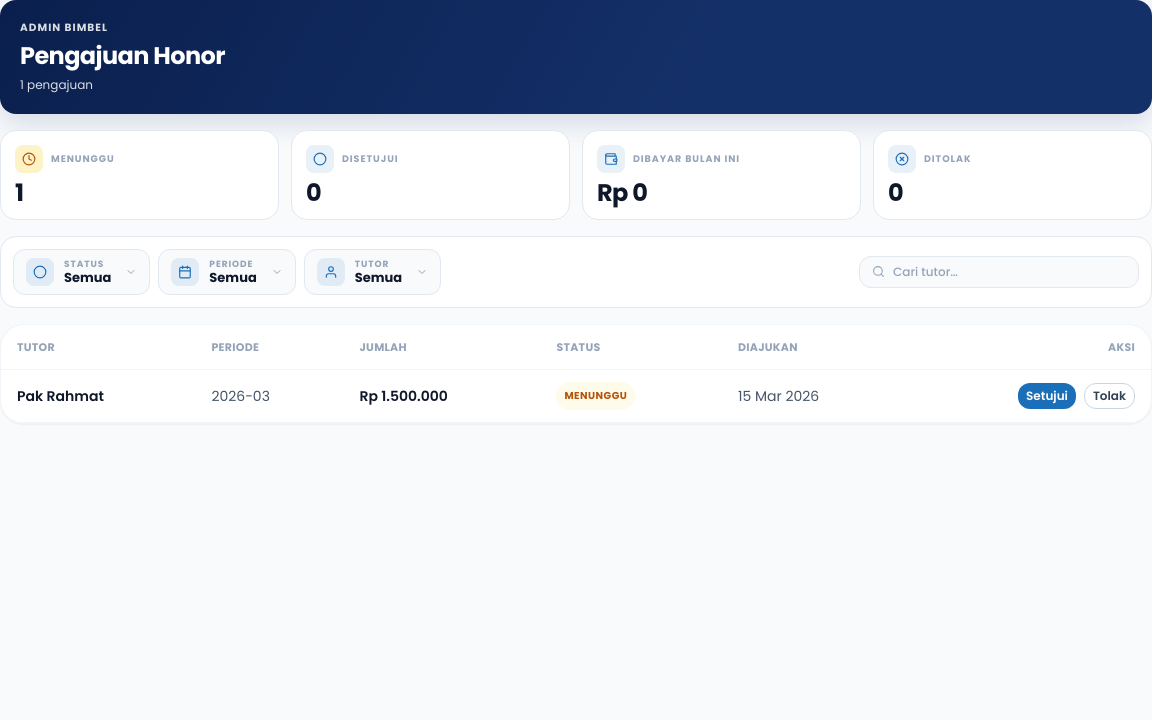
Test: Permintaan payout · Periode chip › clicking the chip OPENS a picker instead of toggling the filter
The image size is (1152, 720).
Click the button "Periode Semua". click: coordinates (227, 272)
box: [158,249,296,295]
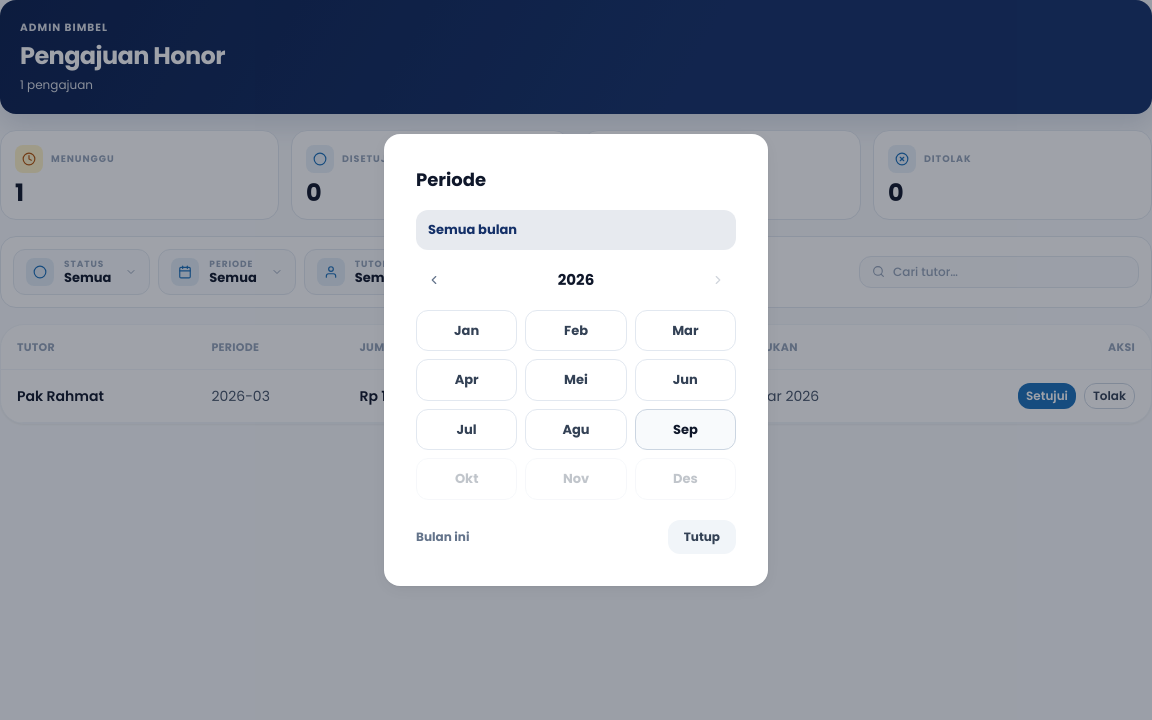
Expected: the text "Semua" is shown, [64,271,111,284]
Result: the dialog with test id "month-picker-modal" is shown at [384,134,768,586]
Result: the number of buttons with test id "month-picker-cell" is 12
